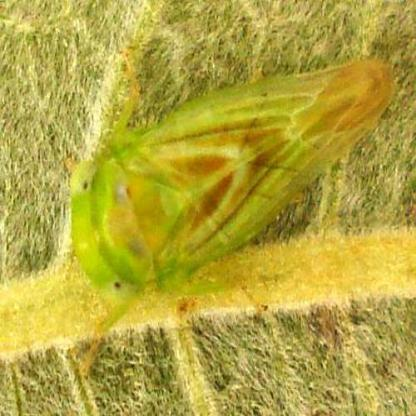green-leafhopper: (72, 34, 403, 378)
